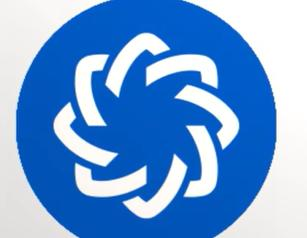ABB: (52, 32, 241, 220)
